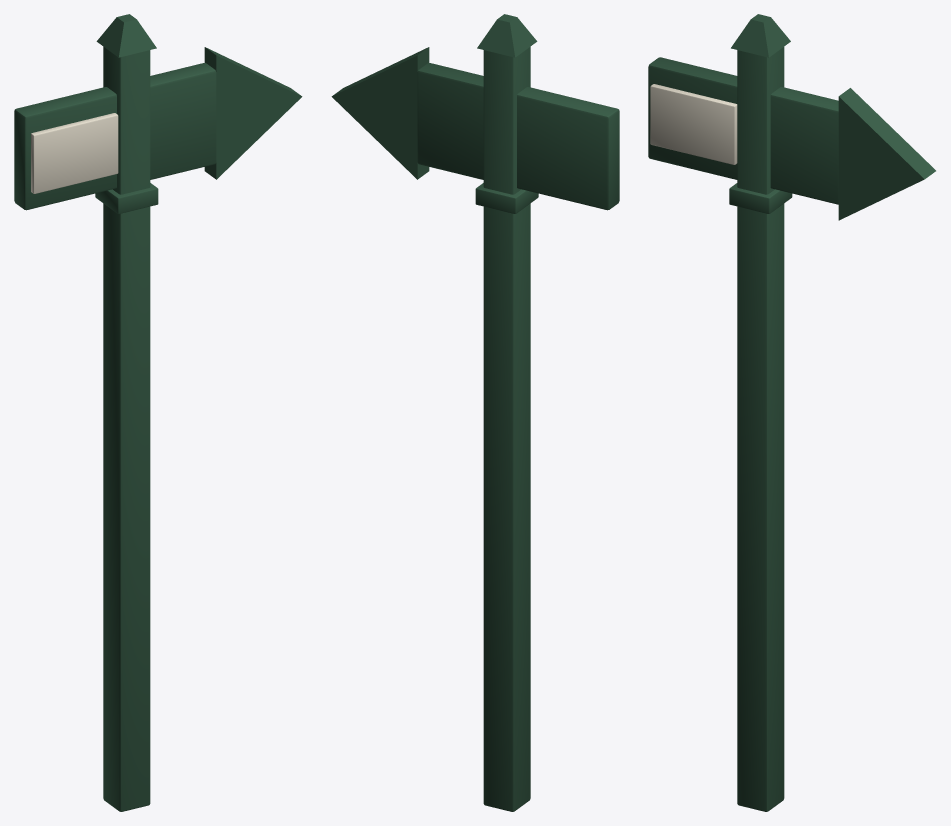
The model's file is sign_directional.glb.
The picture shows the model from 3 angles, left to right: view 1: azimuth 30°, elevation 25°; view 2: azimuth 150°, elevation 25°; view 3: azimuth 330°, elevation 25°; orthographic projection.
Visible parts, largest first — view 1: sign_directional_body; view 2: sign_directional_body; view 3: sign_directional_body.
Part boxes in pixels (box(x1,y1,x2,y2)): sign_directional_body: box(14, 14, 302, 811); sign_directional_body: box(331, 14, 619, 811); sign_directional_body: box(648, 14, 935, 811).
Bounding box in the file's own units: 0.49 × 1.33 × 0.072.
